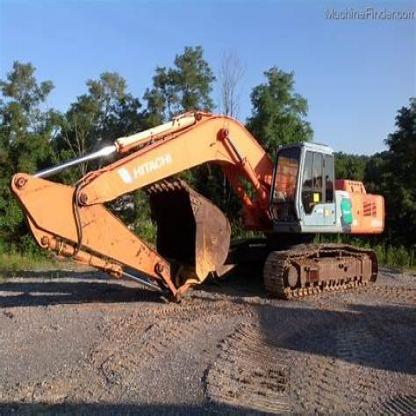excavator: (10, 93, 390, 314)
